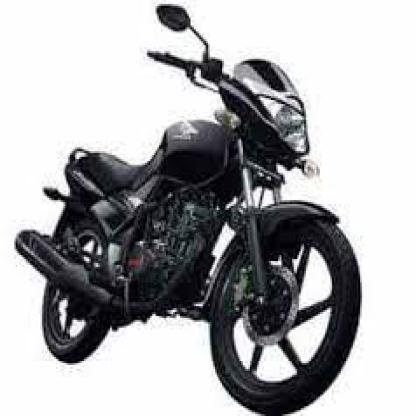bike: (13, 0, 366, 414)
